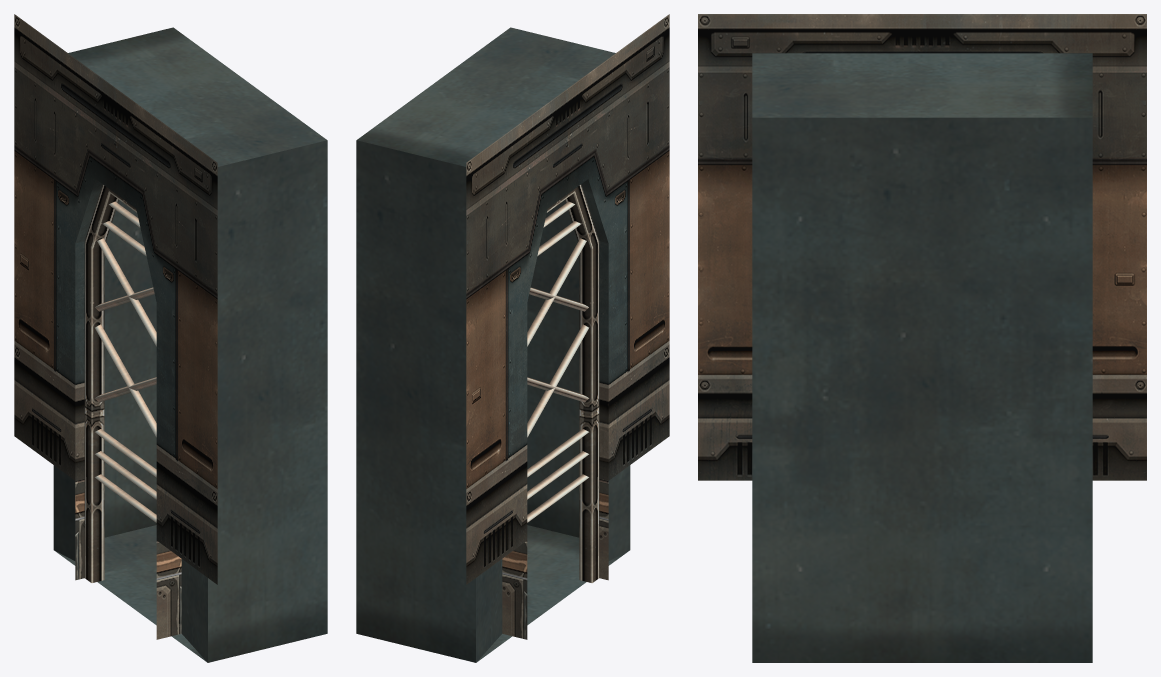
Rendered from mprw_wall_medium_hole.FBX.
3 renders of one model, left to right at view 1: azimuth 30°, elevation 25°; view 2: azimuth 150°, elevation 25°; view 3: azimuth 270°, elevation 25°, orthographic. The views are drawn at different scales.
Visible parts, largest first — view 1: mprw_wall_medium_hole; view 2: mprw_wall_medium_hole; view 3: mprw_wall_medium_hole.
Part boxes in pixels (left/top/right/bottom): mprw_wall_medium_hole: left=14, top=14, right=327, bottom=662; mprw_wall_medium_hole: left=356, top=14, right=669, bottom=662; mprw_wall_medium_hole: left=698, top=14, right=1146, bottom=662.
Bounding box in the file's own units: 267 × 992 × 700.
Materials: 1 (1 with a texture image).
